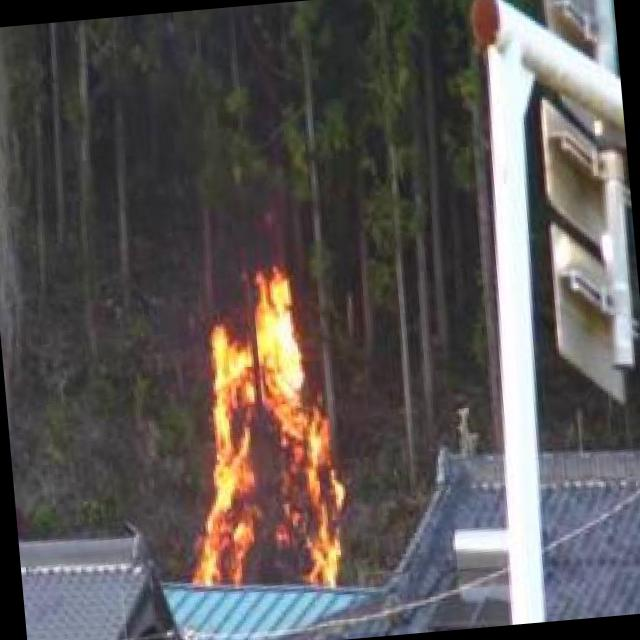Fire: (149, 242, 362, 602)
